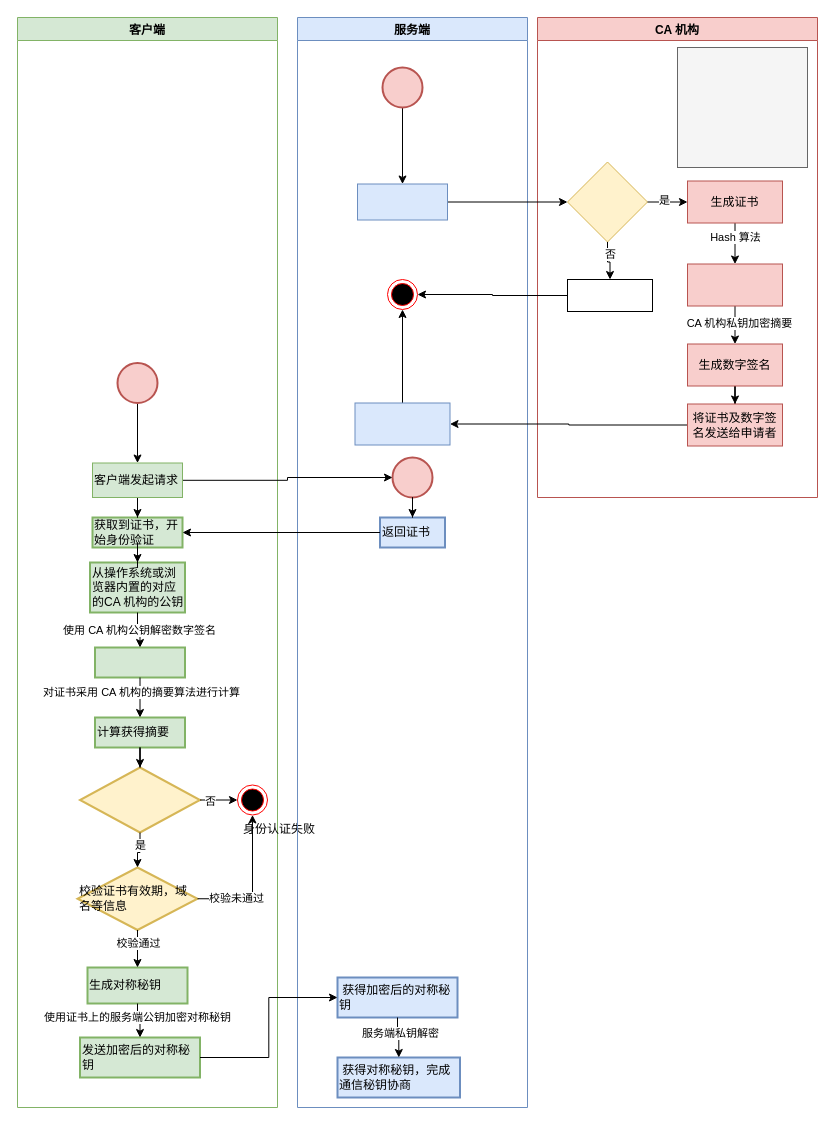
This 835x1125 diagram has some shape labels left out. Each missing label, with the centre of its shape:
"填写信息申请证书" goes at (402,201).
"审核通过？" goes at (607,201).
"客户端计算的摘要与证书摘要一致？" goes at (139,799).
"成功获取到证书" goes at (402,423).
"生成摘要" goes at (734,284).
"申请结束" goes at (402,294).
"结束" goes at (609,295).
"获得证书摘要" goes at (140,662).
"证书包含的关键信息： 1. 发证机构 2. 证书持有者 3. 证书的有效期 4. 证书持有者的域名 5.证书持有者的公钥 6. 签名算法 ......" goes at (742,107).
